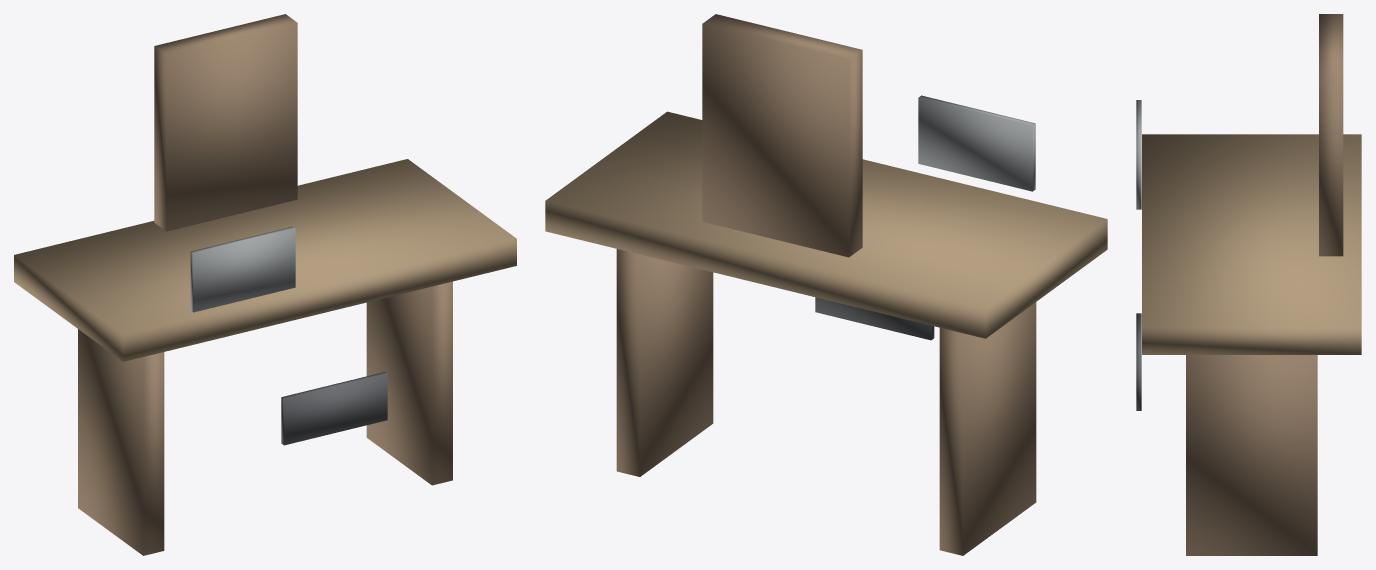
The model's file is altar_table__weathered.glb.
The picture shows the model from 3 angles, left to right: view 1: azimuth 30°, elevation 25°; view 2: azimuth 150°, elevation 25°; view 3: azimuth 270°, elevation 25°; orthographic projection. The views are drawn at different scales.
Parts seen in each view (by area): view 1: world; view 2: world; view 3: world.
Boxes of the visible parts, left/top/right/bottom form: world: left=14, top=14, right=516, bottom=555; world: left=545, top=14, right=1107, bottom=555; world: left=1136, top=14, right=1361, bottom=555.
Size of the model in its own units: 1.5 by 1.57 by 0.7391.
